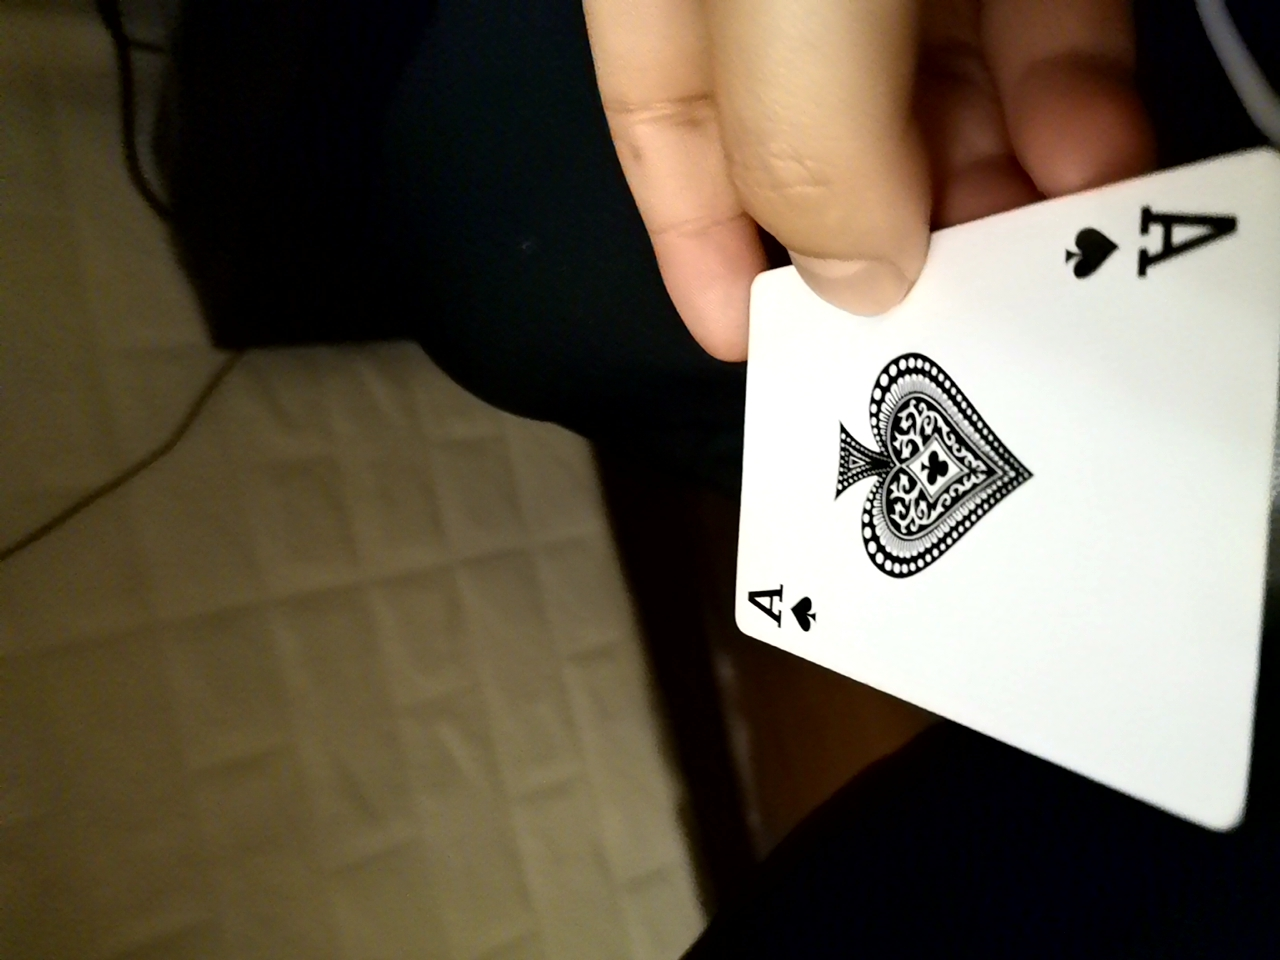ht a: (720, 100, 1272, 777)
